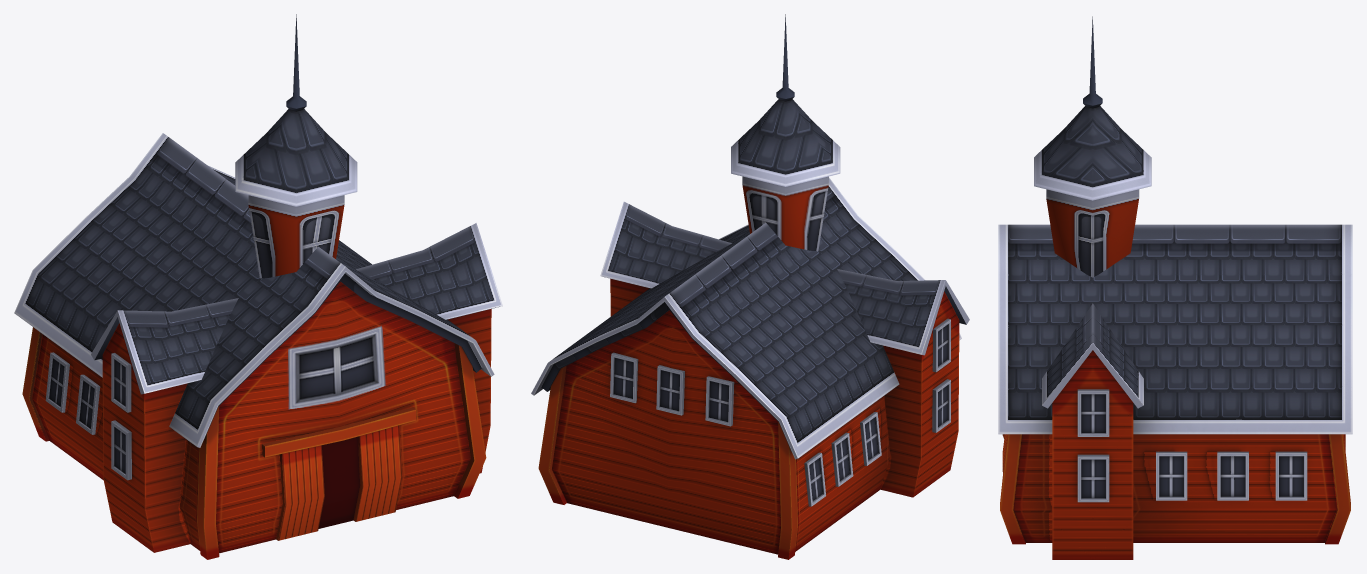
File: Barn_2.FBX
The picture shows the model from 3 angles, left to right: view 1: azimuth 30°, elevation 25°; view 2: azimuth 150°, elevation 25°; view 3: azimuth 270°, elevation 25°; orthographic projection. The views are drawn at different scales.
Visible parts, largest first — view 1: Barn_2; view 2: Barn_2; view 3: Barn_2.
Boxes of the visible parts, x1,y1,x2,y2 form: Barn_2: [14, 14, 502, 559]; Barn_2: [531, 14, 969, 559]; Barn_2: [998, 16, 1352, 559].
Size of the model in its own units: 6.25 by 8.06 by 5.52.
